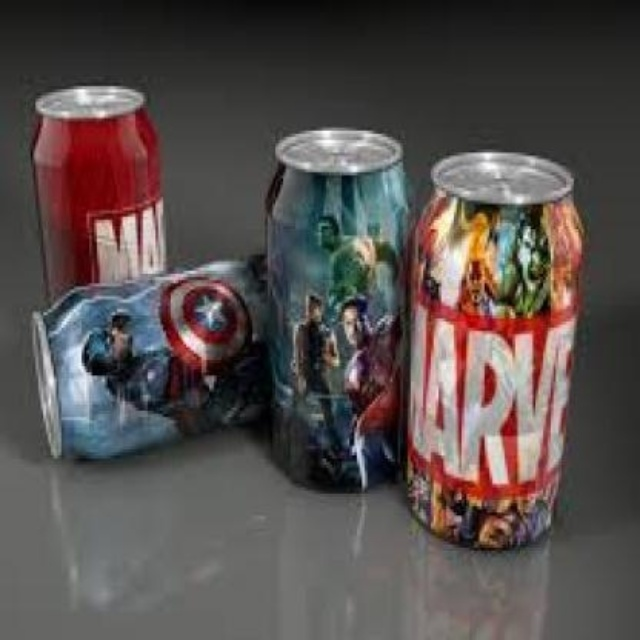trash: (406, 152, 582, 548), (266, 128, 406, 489), (32, 262, 266, 457), (34, 86, 165, 300)
